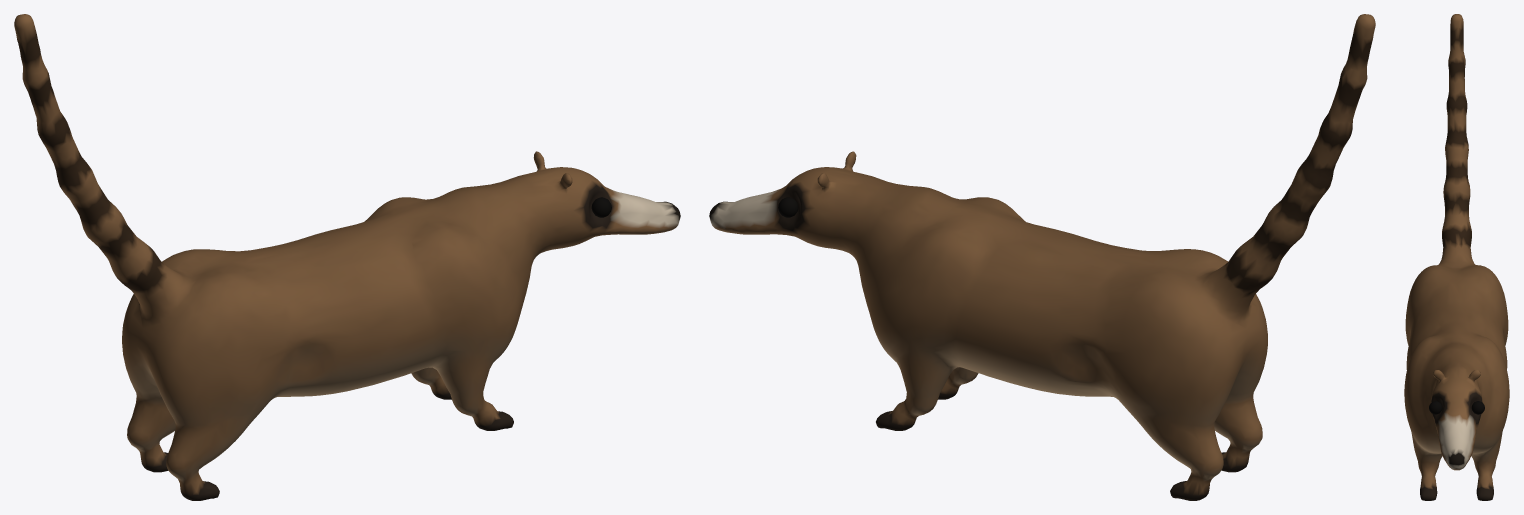
The model's file is coati.glb.
3 renders of one model, left to right at view 1: azimuth 30°, elevation 25°; view 2: azimuth 150°, elevation 25°; view 3: azimuth 270°, elevation 25°, orthographic. The views are drawn at different scales.
Visible parts, largest first — view 1: coati; view 2: coati; view 3: coati.
Boxes of the visible parts, x1=… form: coati: x1=14, y1=14, x2=680, y2=500; coati: x1=709, y1=14, x2=1375, y2=500; coati: x1=1404, y1=14, x2=1509, y2=500.
Bounding box in the file's own units: 1.07 × 0.7863 × 0.2222.
